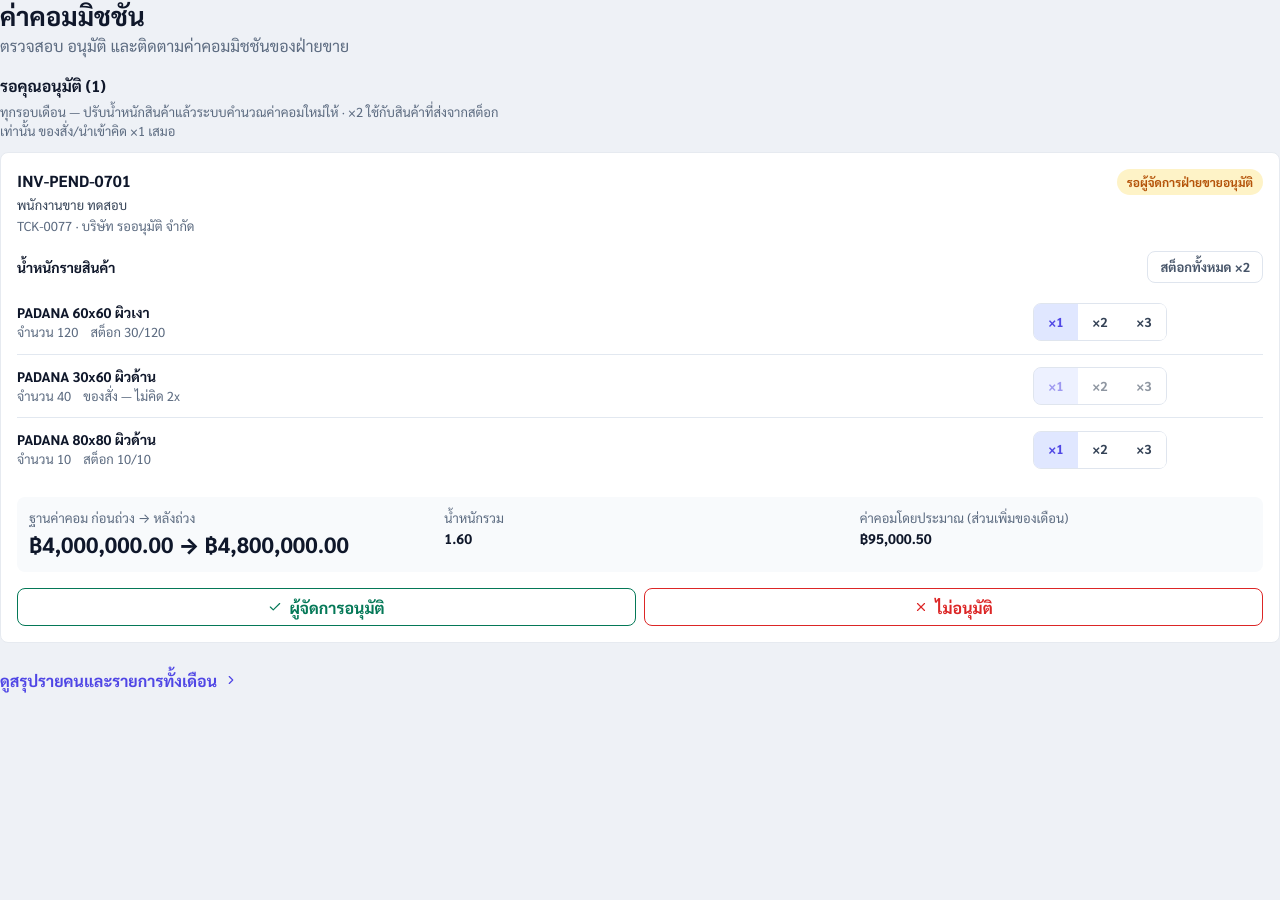
Scenario: weighting desk — ×1/×2/×3 segmented control per line (sales_manager) › approve and reject stay in the entry footer; reject still asks for a reason
expect the heading "INV-PEND-0701" is shown: met, box x1=17 y1=170 x2=131 y2=191
expect the button "ผู้จัดการอนุมัติ" is shown: met, box x1=17 y1=588 x2=636 y2=626
Click the button "ไม่อนุมัติ".
click(954, 607)  # box x1=644 y1=588 x2=1263 y2=626
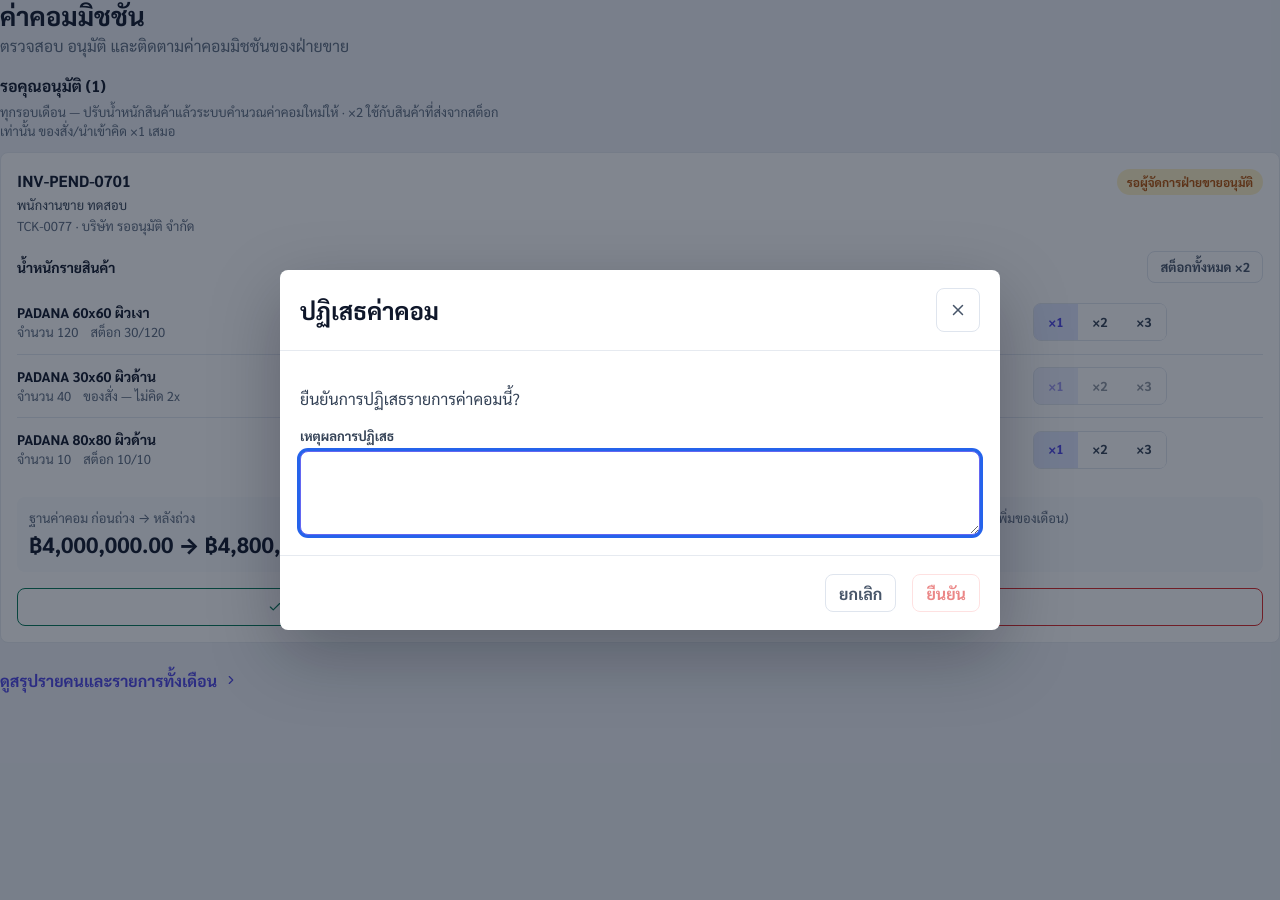
expect the text "เหตุผลการปฏิเสธ" is shown: met, box x1=300 y1=427 x2=980 y2=535
